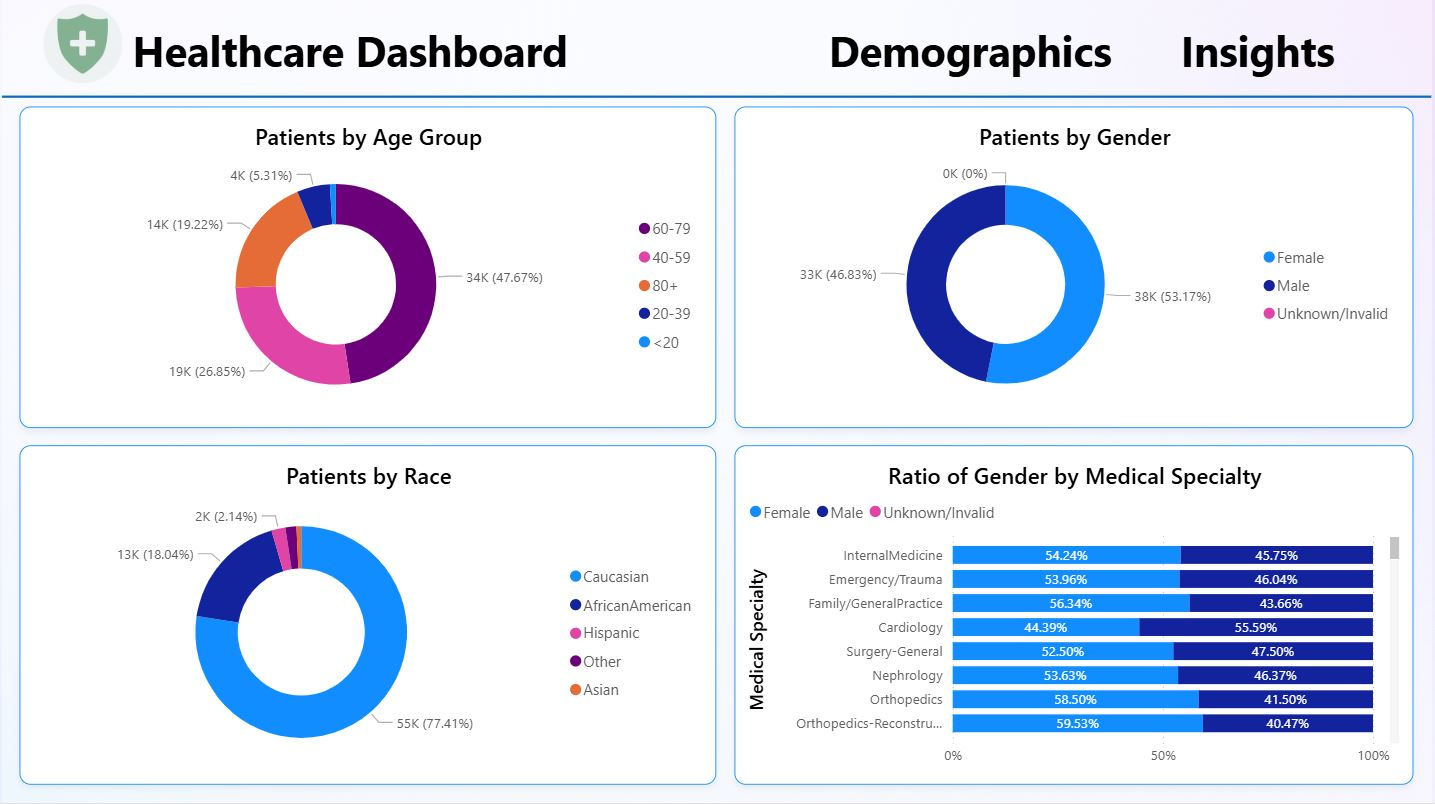

The page's visual inventory and layout, read from the dashboard file:
{"tool":"powerbi","page":{"name":"3. Patient Demographics","canvas":[1280,720],"ordinal":2},"visuals":[{"type":"shape","box":[0,80,1280,16],"z":2000},{"type":"textbox","box":[112,16,448,64],"z":3000},{"type":"textbox","box":[736,16,496,64],"z":4000},{"type":"image","box":[32,0,80,80],"z":5000},{"type":"donutChart","fields":{"Y":["Fact Encounters.Patients"],"Category":["Fact Encounters.Age Group"]},"box":[16,96,624,288],"z":5001},{"type":"donutChart","title":"Patients by Race","fields":{"Y":["Fact Encounters.Patients"],"Category":["Fact Encounters.race"]},"box":[16,400,624,304],"z":5002},{"type":"donutChart","title":"Patients by Gender","fields":{"Category":["Fact Encounters.gender"],"Y":["Fact Encounters.Patients"]},"box":[656,96,608,288],"z":5003},{"type":"hundredPercentStackedBarChart","title":"Ratio of Gender by Medical Specialty","fields":{"Category":["Fact Encounters.medical_specialty"],"Y":["CountNonNull(Fact Encounters.gender)"],"Series":["Fact Encounters.gender"]},"box":[656,400,608,304],"z":5004}]}

Visuals, with their boxes in screenshot pixels (x1, y1, x2, y2), scaled from the page's 1280x720 canvas onto the 1435x804 screenshot:
shape: 0 89 1434 107
textbox: 126 18 628 89
textbox: 825 18 1381 89
image: 36 0 126 89
donutChart - Fact Encounters.Patients x Fact Encounters.Age Group: 18 107 718 429
"Patients by Race" donutChart: 18 447 718 786
"Patients by Gender" donutChart: 735 107 1417 429
"Ratio of Gender by Medical Specialty" hundredPercentStackedBarChart: 735 447 1417 786
